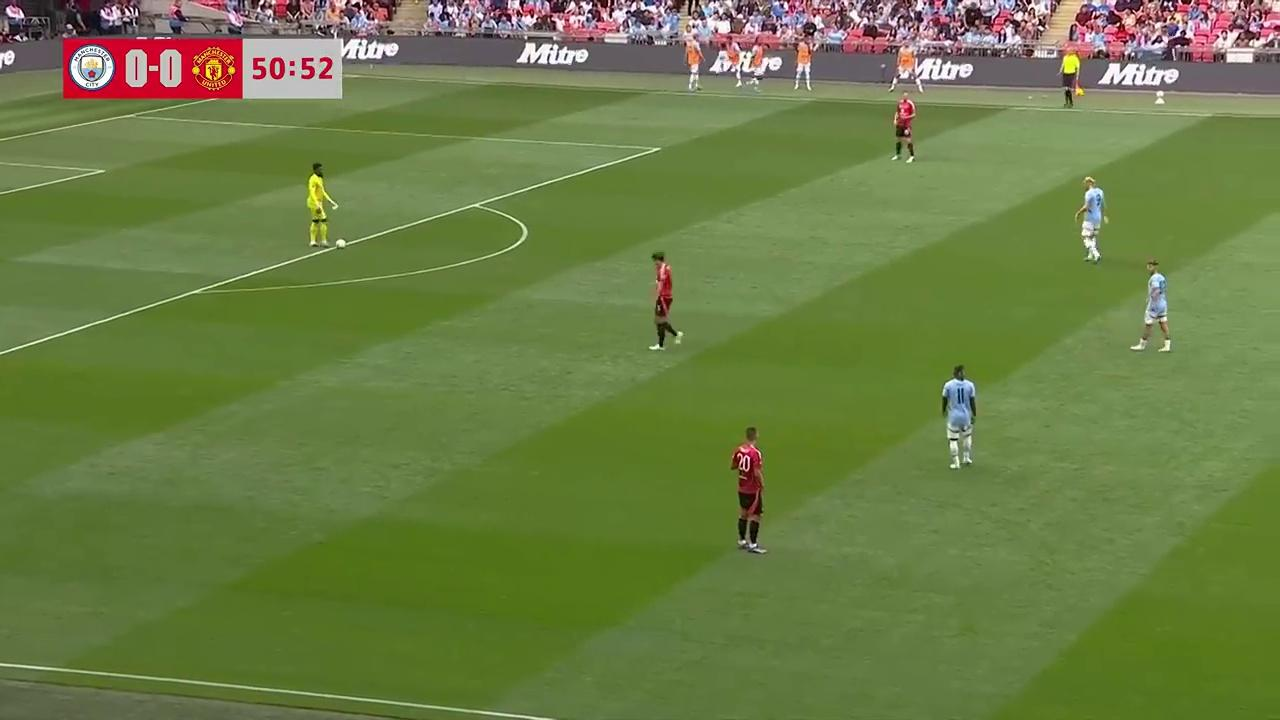ball: (337, 239, 350, 250)
player: (729, 426, 766, 554), (940, 364, 977, 470), (1131, 260, 1171, 352), (650, 252, 682, 350), (1072, 172, 1106, 263), (306, 162, 336, 248), (891, 93, 916, 163)
referee: (1060, 50, 1083, 107)
